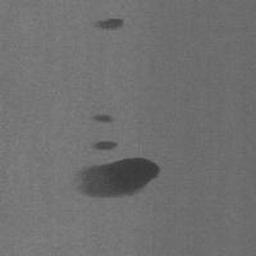Oil spot: (70, 155, 163, 200), (91, 17, 125, 32), (88, 140, 119, 151), (90, 113, 118, 124)
